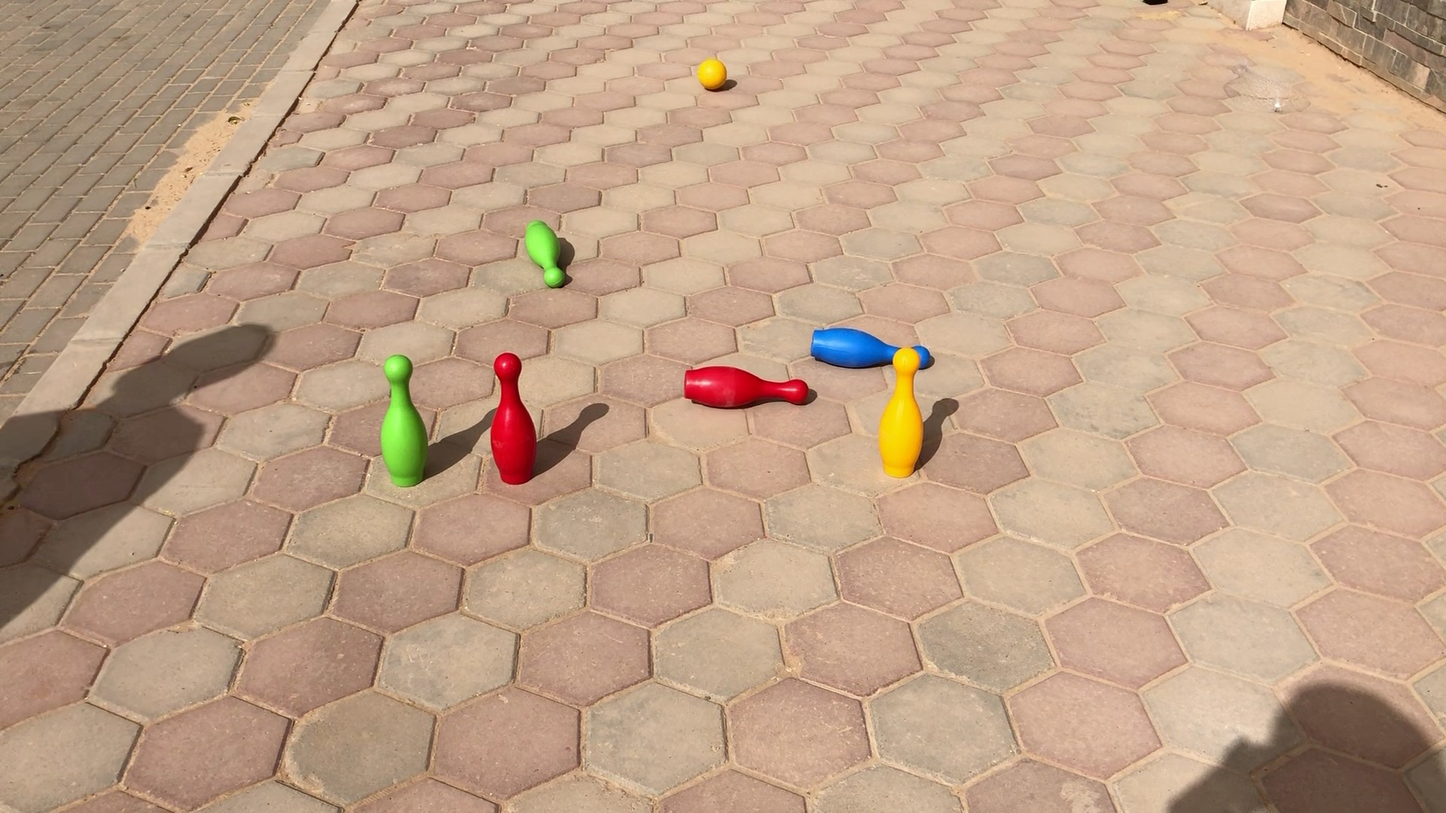pin: (806, 326, 939, 382), (378, 355, 430, 486), (488, 352, 536, 483), (881, 344, 927, 476), (684, 366, 816, 409), (522, 219, 570, 285)
